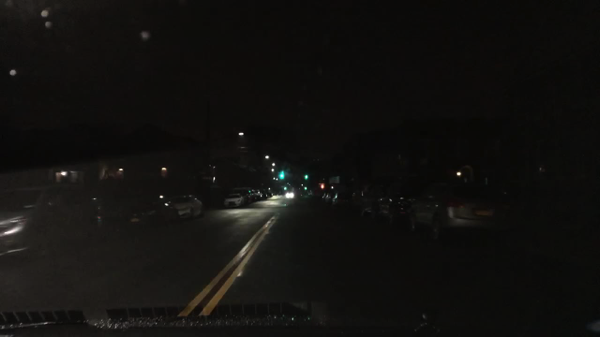car: (0, 184, 96, 260), (408, 178, 521, 242), (96, 183, 176, 228), (358, 181, 418, 223), (172, 194, 204, 218), (331, 188, 359, 207), (224, 192, 244, 207), (322, 191, 334, 204), (245, 191, 253, 206), (254, 191, 263, 200), (285, 191, 295, 199), (263, 190, 268, 199), (268, 189, 272, 198)
traffic light: (279, 171, 284, 178), (303, 185, 308, 191), (303, 175, 308, 180)
